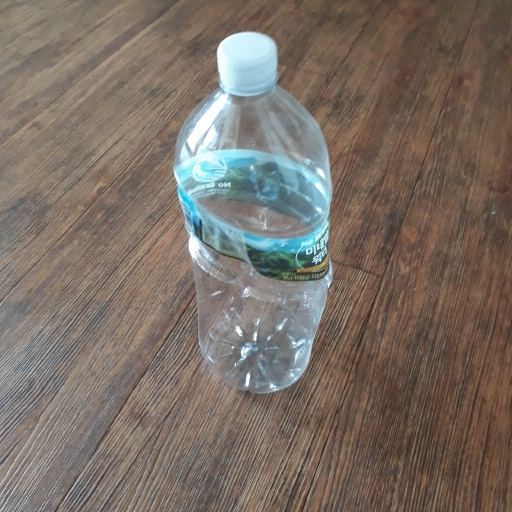Plastic_0: (171, 30, 336, 390)
